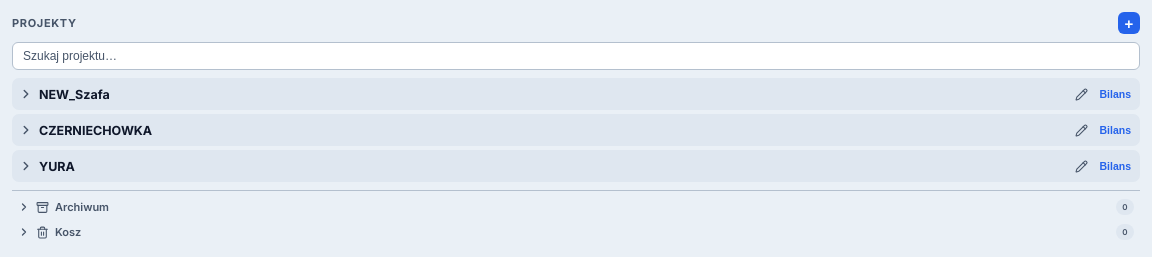
Test case: ProjectListPanel tree layout › expands matching groups while searching
Type "kuch" into the field labelled "Szukaj projektu" at coordinates (576, 56), box left=12, top=42, right=1140, bottom=70
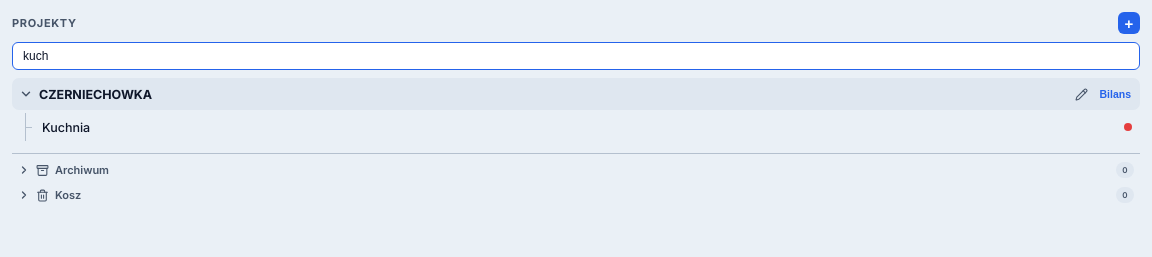
Check: the button "Kuchnia" is shown, box left=42, top=120, right=1132, bottom=134
Clear the field named "Szukaj projektu" at coordinates (576, 56), box left=12, top=42, right=1140, bottom=70
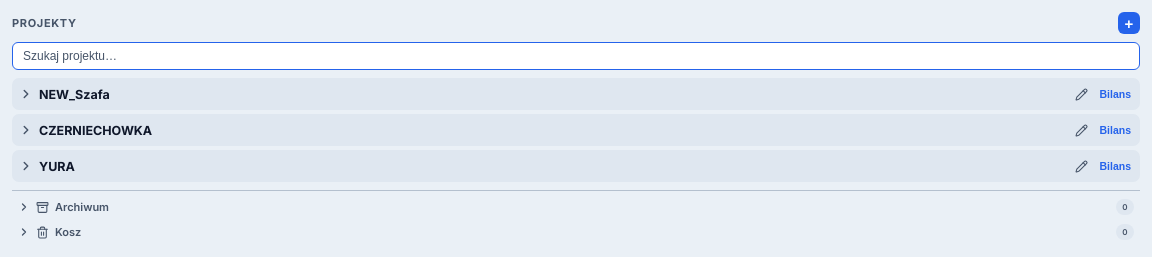
Check: the button "Kuchnia" is gone
